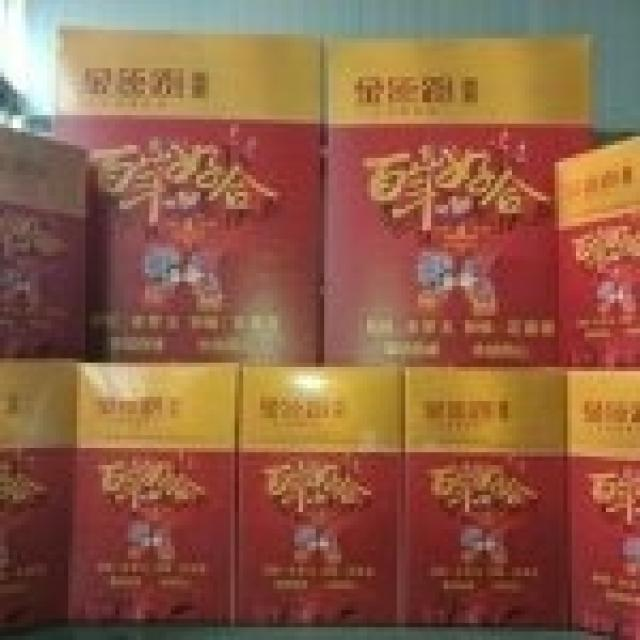box: (55, 21, 327, 364), (323, 37, 603, 364), (394, 362, 570, 625), (70, 361, 240, 626), (233, 359, 403, 623), (0, 125, 91, 362), (0, 357, 78, 623), (553, 137, 636, 371), (571, 362, 636, 636)
